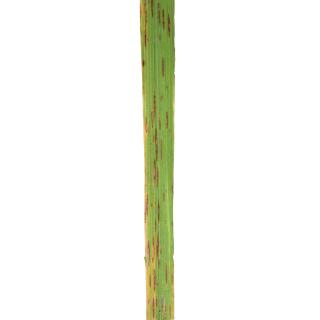Bercak-Cokelat-Sempit: (141, 1, 151, 54), (161, 297, 173, 320), (166, 11, 173, 38), (146, 238, 152, 269), (156, 196, 162, 225), (144, 192, 149, 226), (154, 128, 159, 160), (161, 5, 166, 33), (170, 263, 176, 286), (153, 86, 157, 120), (156, 0, 161, 26), (160, 138, 165, 163), (160, 56, 165, 80), (164, 261, 169, 285), (152, 161, 156, 189), (164, 109, 169, 131), (163, 187, 169, 205), (152, 267, 156, 293), (144, 116, 148, 137), (156, 232, 159, 260), (142, 54, 147, 70), (152, 295, 155, 320)
